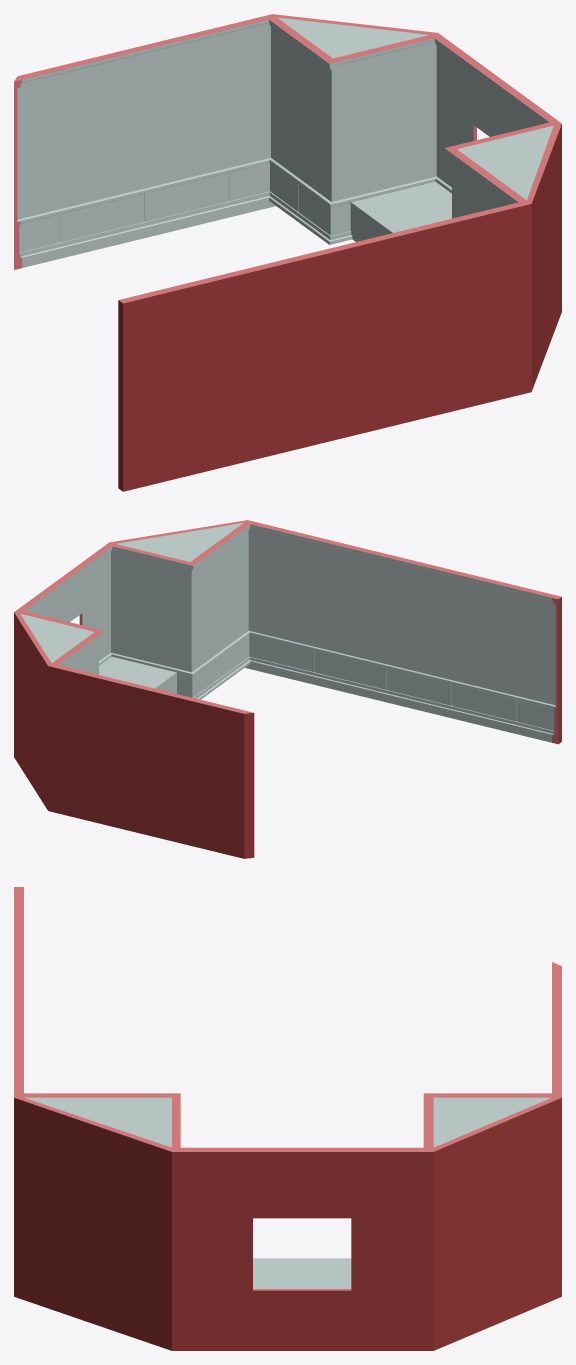
File: Nursery_Wall.fbx
3 views of the same model, one above another, from view 1: azimuth 30°, elevation 25°; view 2: azimuth 150°, elevation 25°; view 3: azimuth 270°, elevation 25° (orthographic). The views are drawn at different scales.
Parts seen in each view (by area): view 1: polySurface322; view 2: polySurface322; view 3: polySurface322.
Part boxes in pixels (x1,y1,x2,y2): polySurface322: [14, 14, 561, 491]; polySurface322: [14, 520, 561, 858]; polySurface322: [14, 887, 561, 1350].
Bounding box in the file's own units: 148 × 52 × 130.
